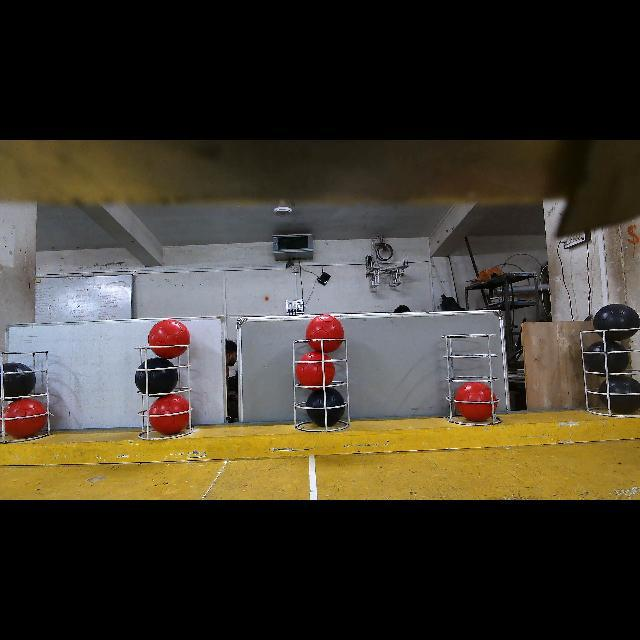P: (594, 303, 640, 341), (137, 357, 178, 397), (587, 342, 628, 379), (598, 377, 640, 412), (306, 389, 345, 425), (0, 363, 36, 402)
R: (149, 396, 189, 435), (5, 399, 45, 438), (456, 383, 498, 420), (306, 315, 344, 353), (296, 353, 335, 390), (150, 320, 188, 355)
S: (136, 343, 194, 441), (444, 326, 498, 428), (577, 325, 637, 415), (1, 346, 52, 442), (298, 340, 349, 430)
